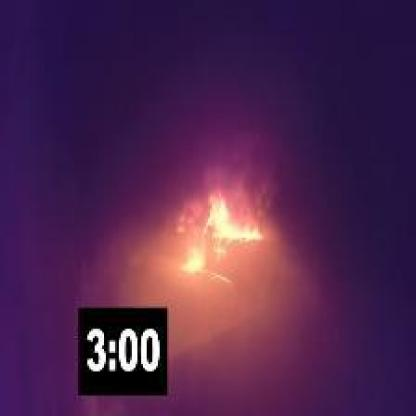fire: (175, 175, 263, 280)
